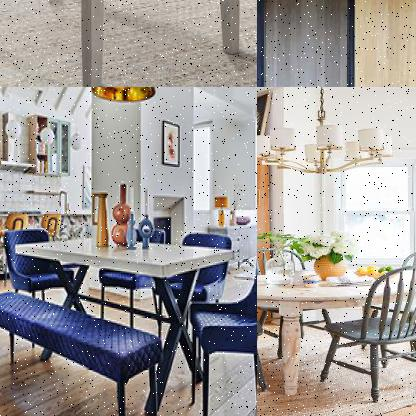table: (12, 224, 240, 415), (257, 261, 415, 400), (0, 0, 247, 86)
